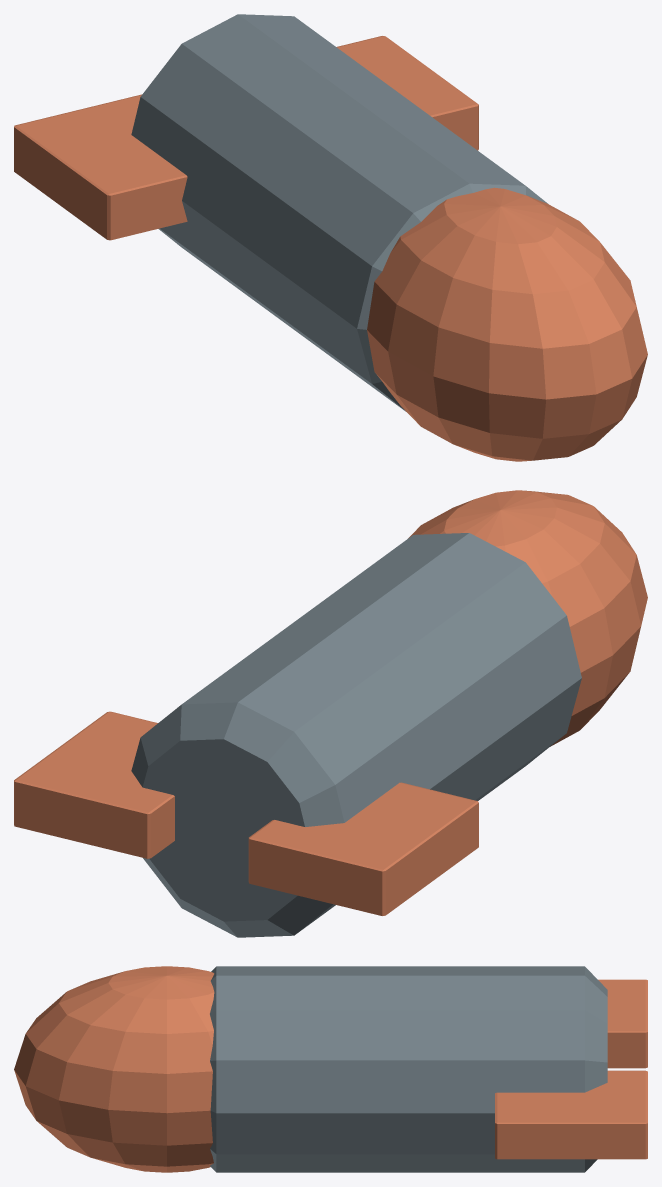
The model's file is shell_rocket.glb.
The picture shows the model from 3 angles, top to bottom: view 1: azimuth 30°, elevation 25°; view 2: azimuth 150°, elevation 25°; view 3: azimuth 270°, elevation 25°; orthographic projection. The views are drawn at different scales.
Visible parts, largest first — view 1: Rocket body.001, Rocket nose.001, Rocket fin.002, Rocket fin.003; view 2: Rocket body.001, Rocket nose.001, Rocket fin.002, Rocket fin.003; view 3: Rocket body.001, Rocket nose.001, Rocket fin.003, Rocket fin.002.
Part boxes in pixels (<box>): Rocket body.001: <box>131,14,547,411</box>; Rocket nose.001: <box>367,187,647,461</box>; Rocket fin.002: <box>14,94,187,240</box>; Rocket fin.003: <box>336,36,478,150</box>; Rocket body.001: <box>131,533,581,937</box>; Rocket nose.001: <box>408,490,647,746</box>; Rocket fin.002: <box>248,782,478,915</box>; Rocket fin.003: <box>14,711,174,858</box>; Rocket body.001: <box>210,966,607,1172</box>; Rocket nose.001: <box>14,966,214,1172</box>; Rocket fin.003: <box>495,1070,647,1159</box>; Rocket fin.002: <box>598,979,647,1068</box>.
Bounding box in the file's own units: 0.38 × 0.23 × 0.705.
